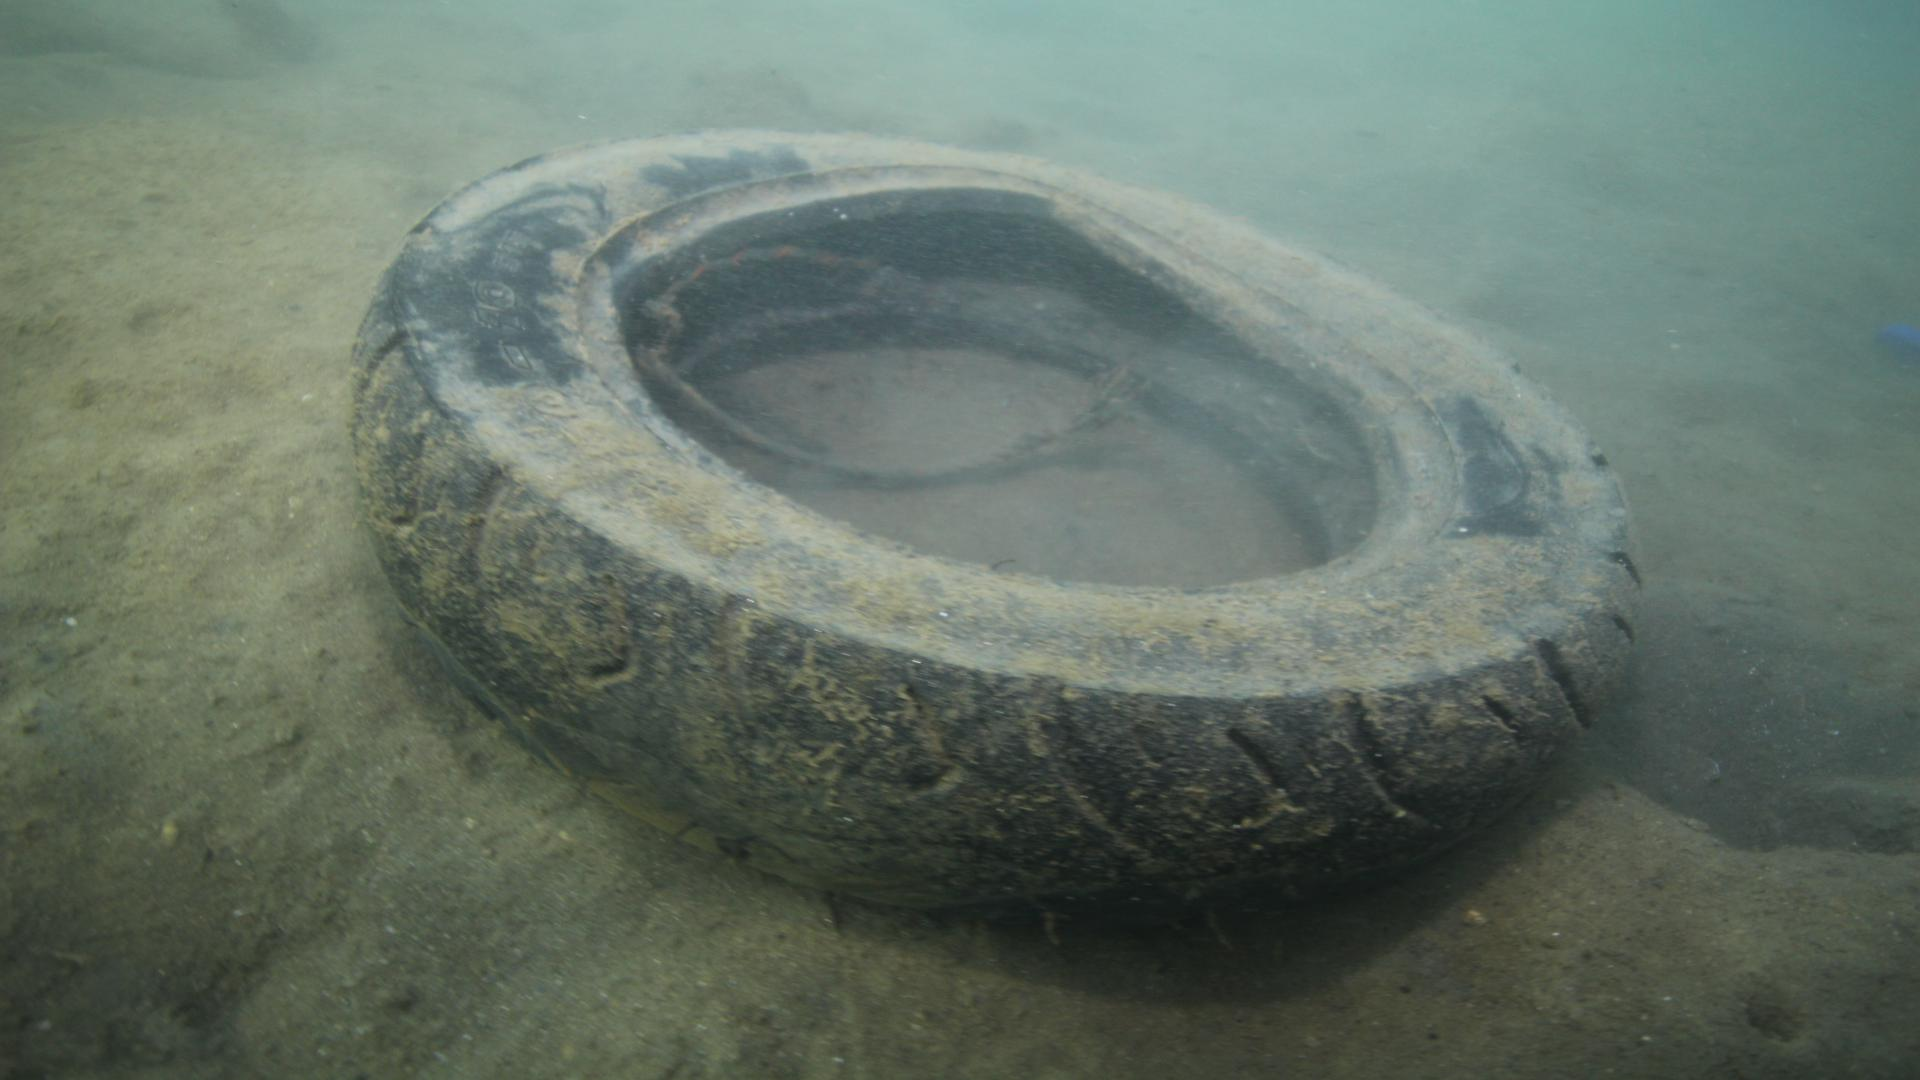rope: (630, 293, 1065, 488)
tire: (343, 123, 1648, 947)
